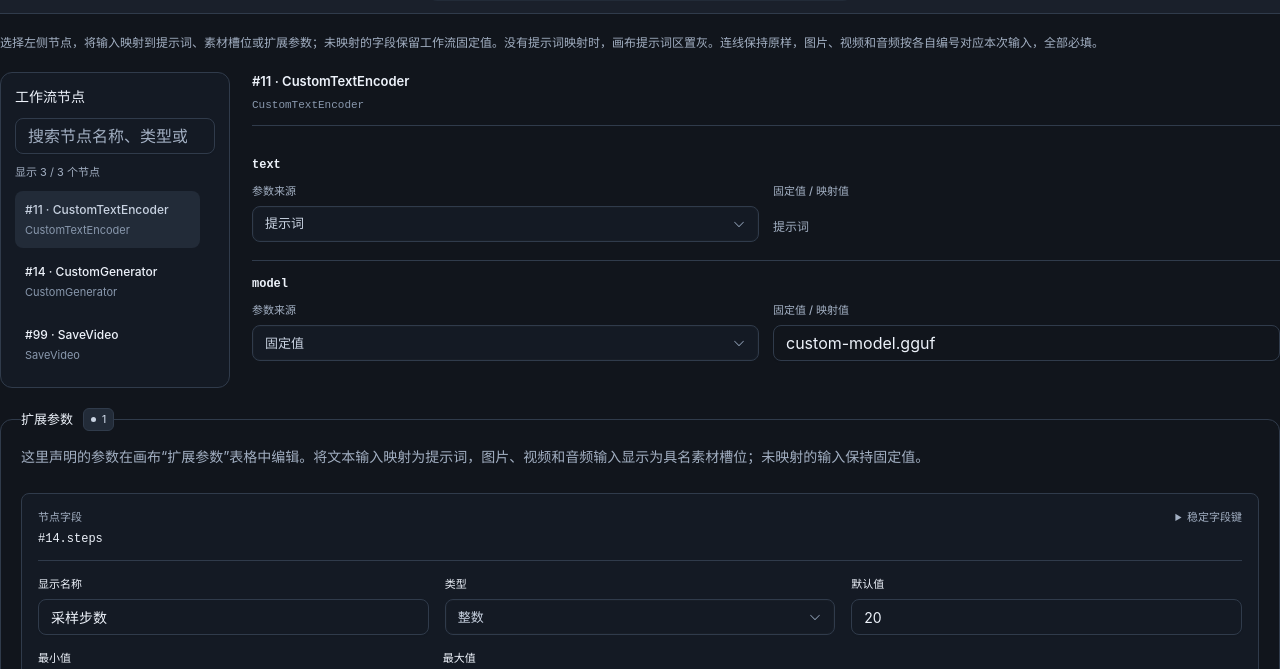
Test: ComfyWorkflowEditor › keeps technical parameter keys collapsed and reviews output separately from defaults and pricing
The image size is (1280, 669).
Click the heading "稳定字段键" at (1214, 517), box [1187,510,1242,524]
(page scrolled)
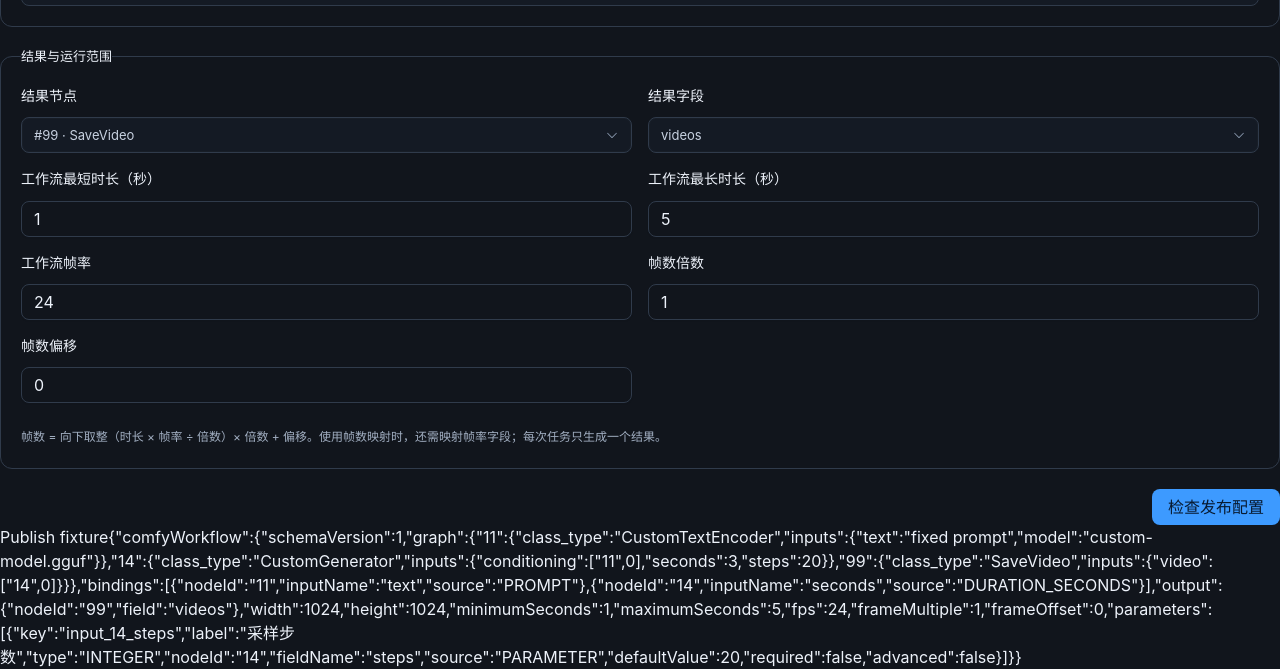
Click the button "检查发布配置" at (1216, 507), box [1152,489,1279,525]
(page scrolled)
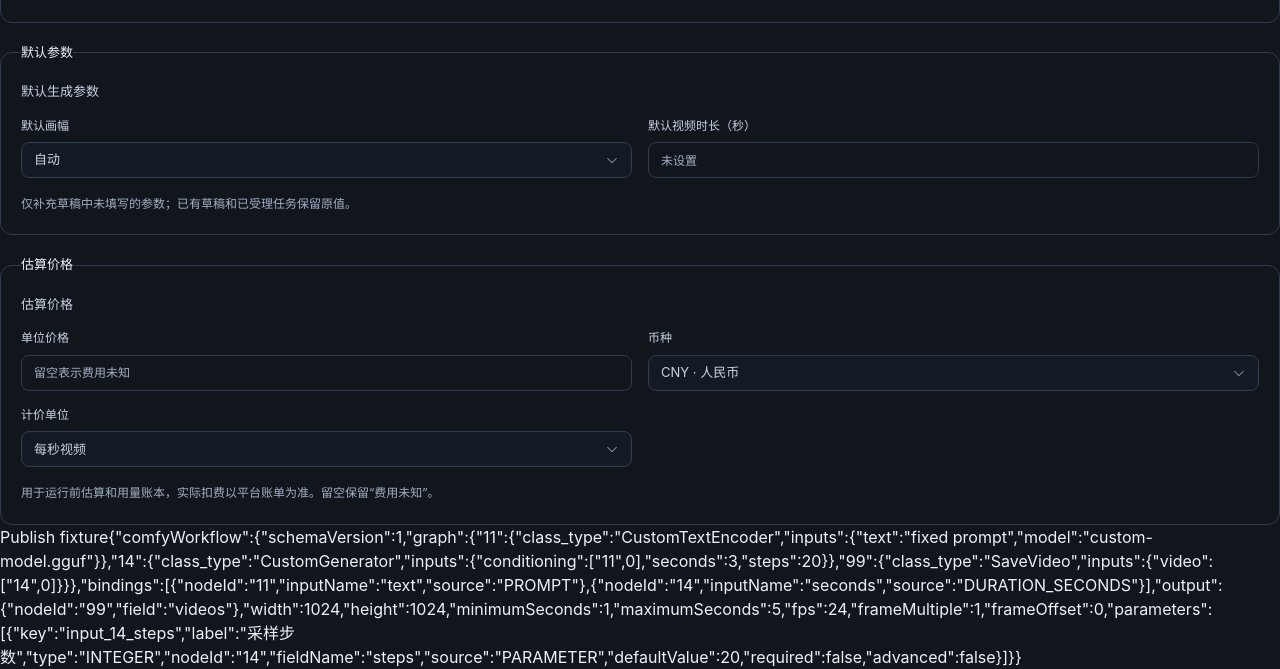
Expected: the button "Publish fixture" is enabled, [0,525,108,549]
Expected: the element "默认参数" is shown, [0,43,1279,236]
Expected: the element "估算价格" is shown, [0,256,1279,525]
